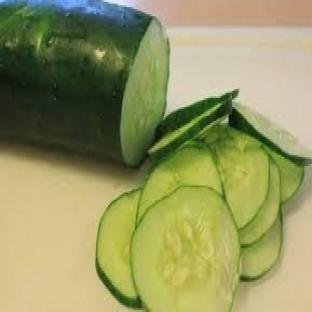Cucumber: (0, 0, 169, 165), (131, 188, 239, 311), (138, 143, 223, 222), (207, 127, 269, 229), (97, 189, 140, 308), (229, 104, 311, 164), (148, 100, 232, 158), (156, 90, 238, 140), (240, 159, 280, 246), (241, 214, 282, 281), (267, 148, 304, 203)
